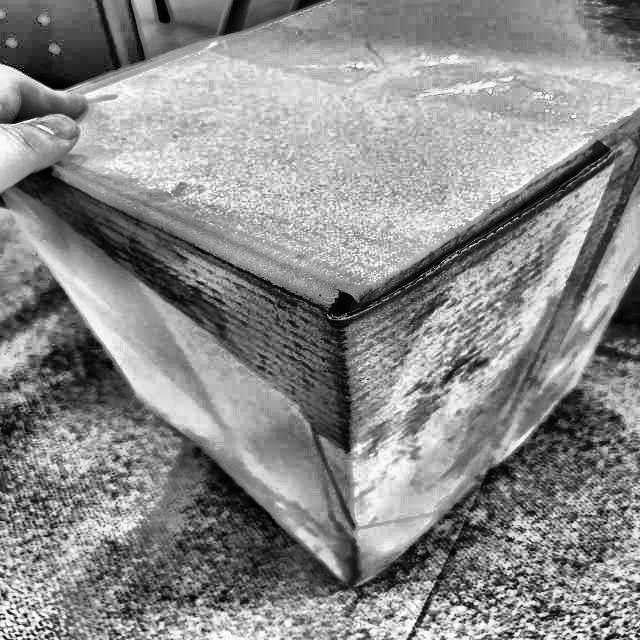box: (0, 0, 639, 591)
wet: (53, 158, 615, 444)
